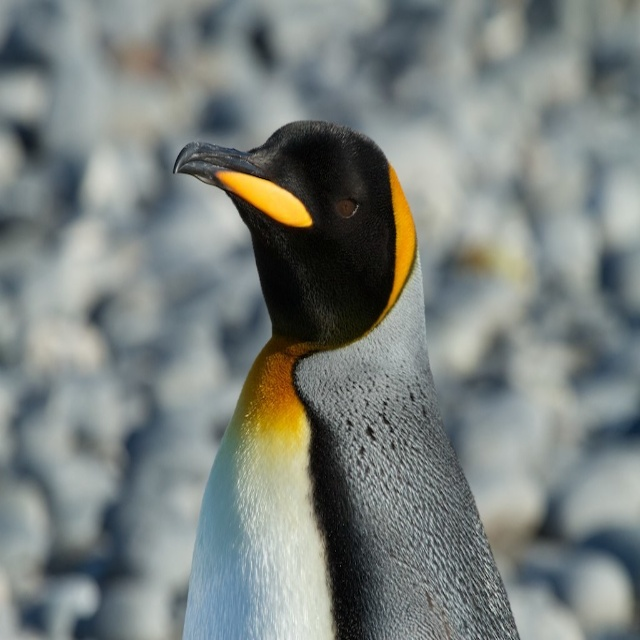Penguin: (174, 111, 523, 639)
